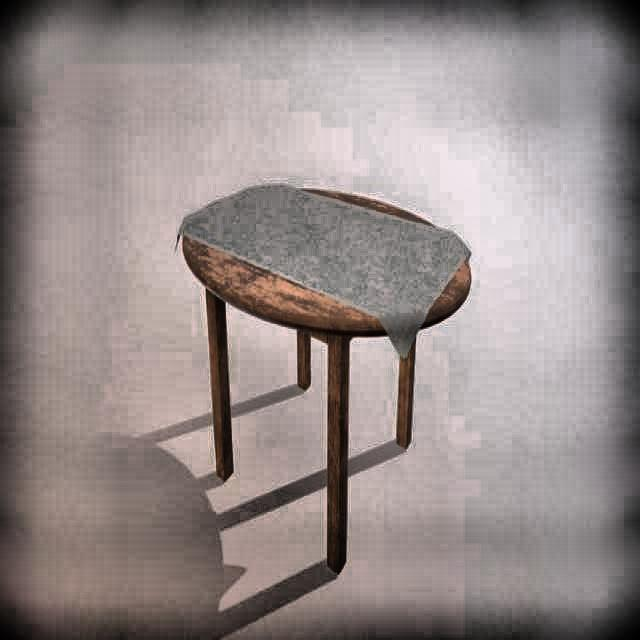mesa: (182, 180, 473, 571)
